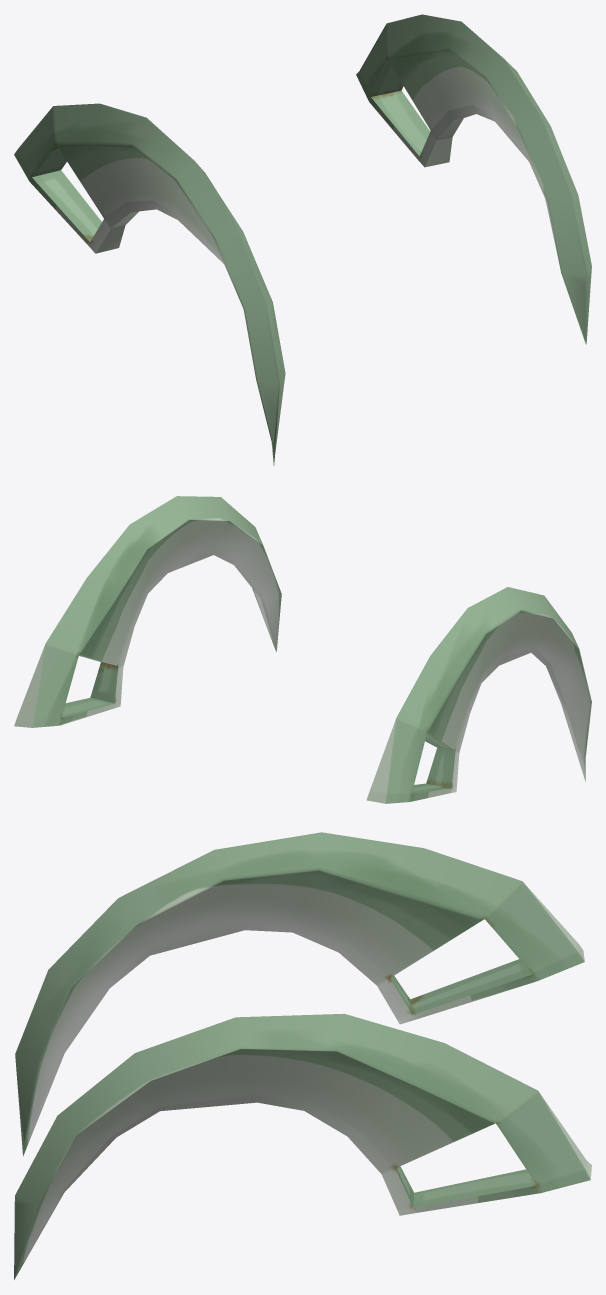
Rendered from Boss2henkeiKaitenKama.fbx.
The picture shows the model from 3 angles, top to bottom: view 1: azimuth 30°, elevation 25°; view 2: azimuth 150°, elevation 25°; view 3: azimuth 270°, elevation 25°; orthographic projection. The views are drawn at different scales.
Visible parts, largest first — view 1: kamaR1, kamaL; view 2: kamaL, kamaR1; view 3: kamaR1, kamaL.
Part boxes in pixels (bbox=[...]): kamaR1: bbox=[14, 103, 285, 465]; kamaL: bbox=[356, 14, 591, 344]; kamaL: bbox=[14, 496, 281, 727]; kamaR1: bbox=[366, 587, 591, 803]; kamaR1: bbox=[15, 832, 584, 1156]; kamaL: bbox=[14, 1013, 591, 1279].
Bounding box in the file's own units: 6.16 × 4.3 × 6.74.
1 material, 1 textured.
